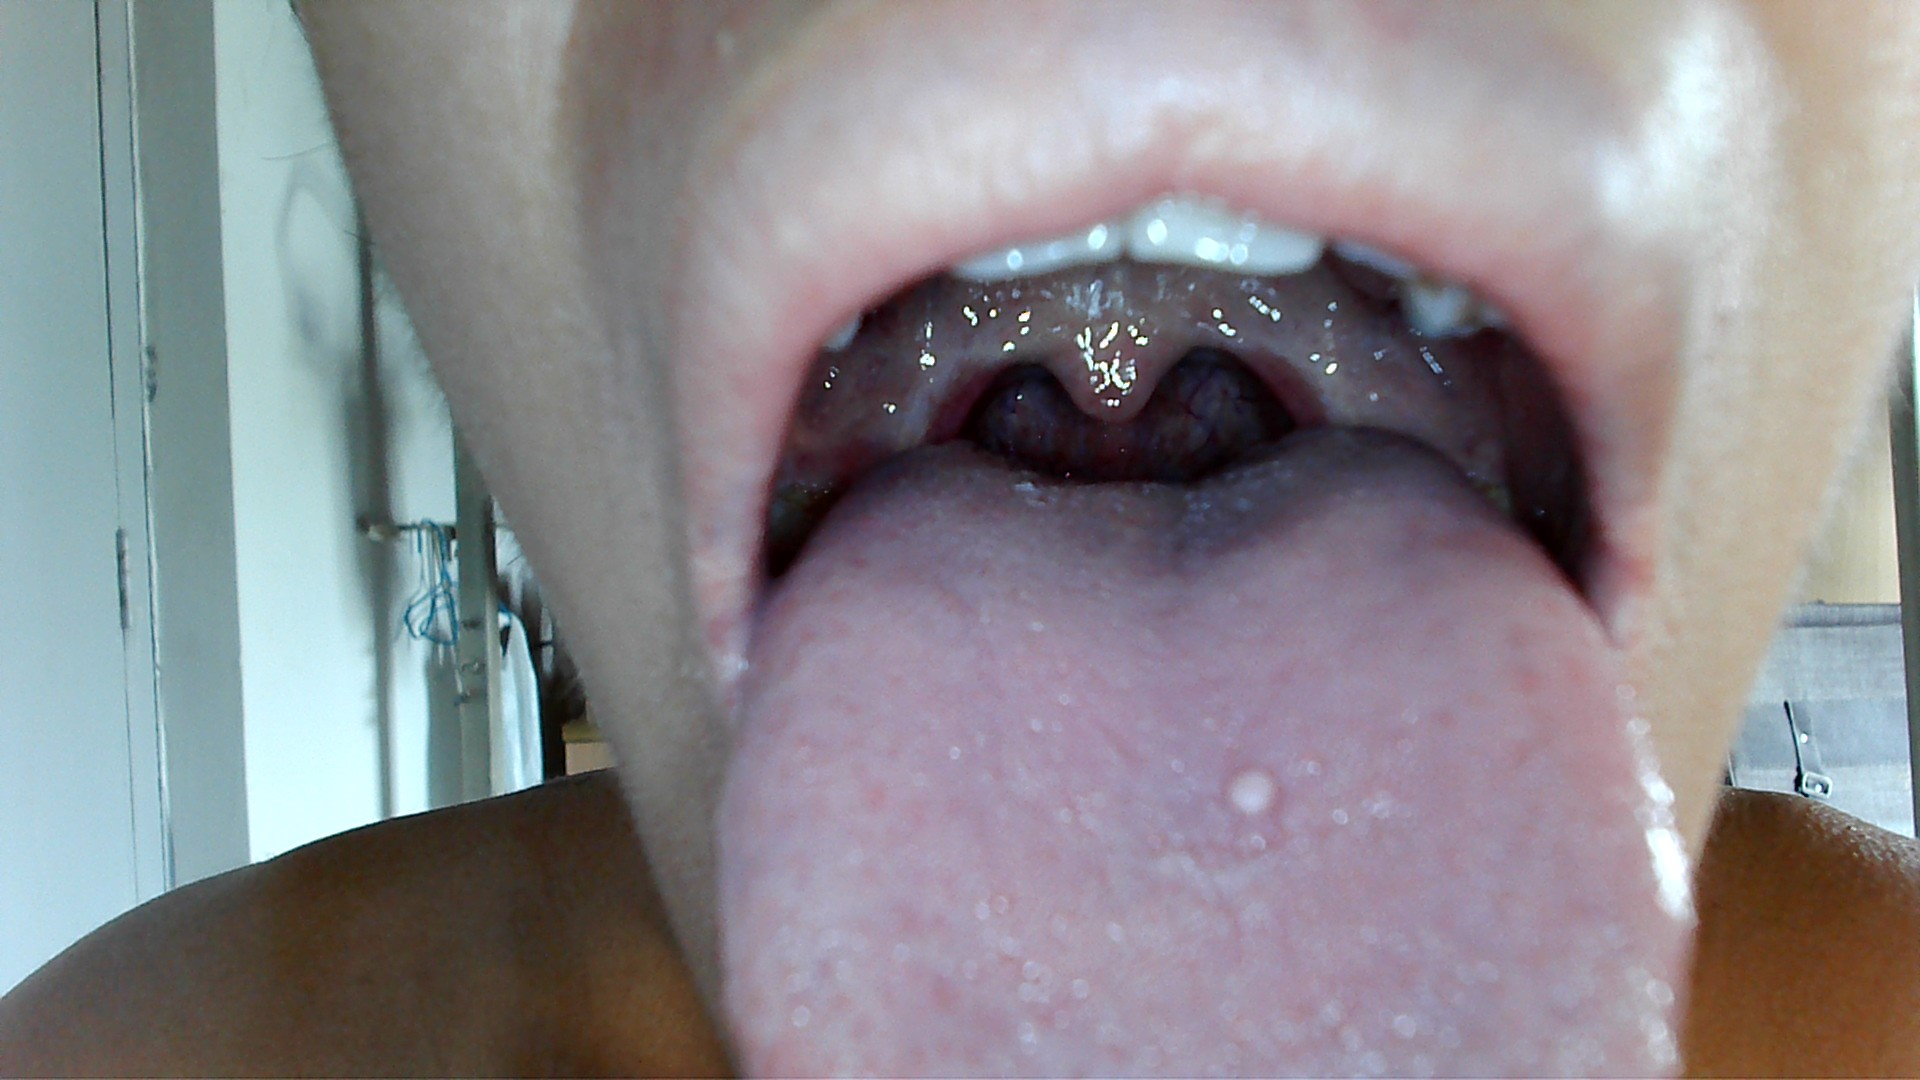throat: (1250, 295, 1374, 436), (878, 313, 990, 448)
